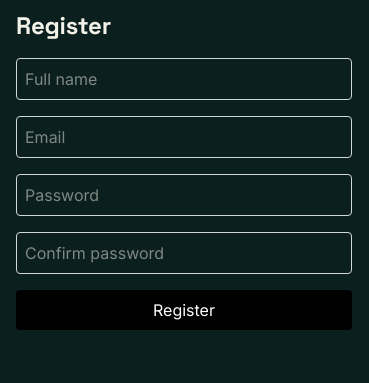
Register › shows a validation error from the API
Type "Test User" into the field with placeholder "Full name".
click(184, 79); type("Test User")  # box [16,58,352,100]
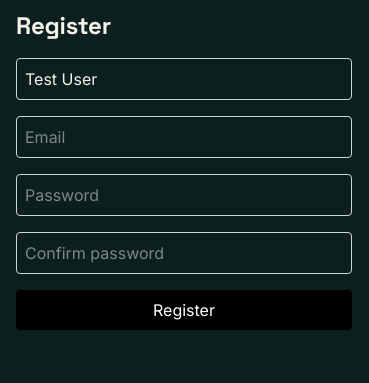
Type "test@example.com" into the field with placeholder "Email".
click(184, 137); type("test@example.com")  # box [16,116,352,158]
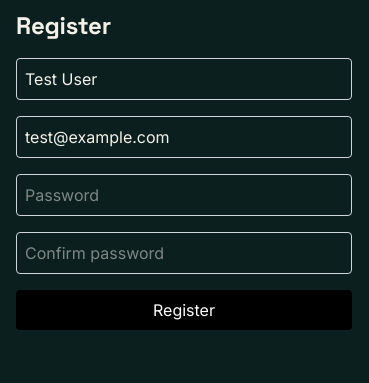
Type "short" into the password field with placeholder "Password".
click(184, 195); type("short")  # box [16,174,352,216]
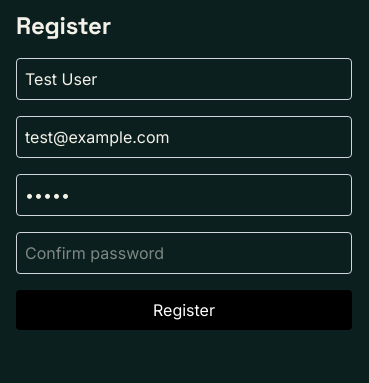
Type "short" into the password field with placeholder "Confirm password".
click(184, 253); type("short")  # box [16,232,352,274]
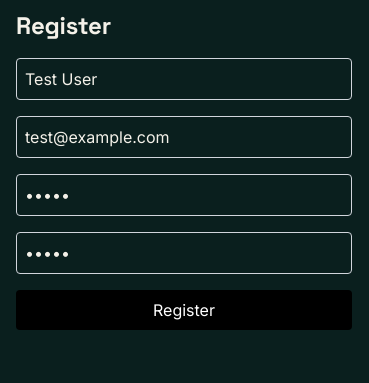
Click the button "Register".
click(184, 310)  # box [16,290,352,330]
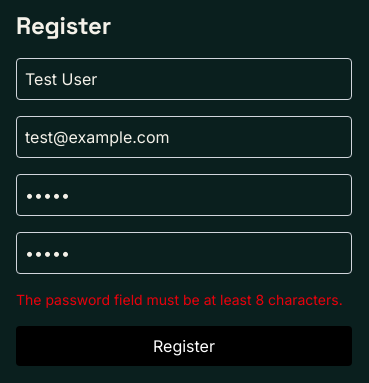
expect the text "The password field must be at least 8 characters." is shown: met, box [16,290,352,310]
